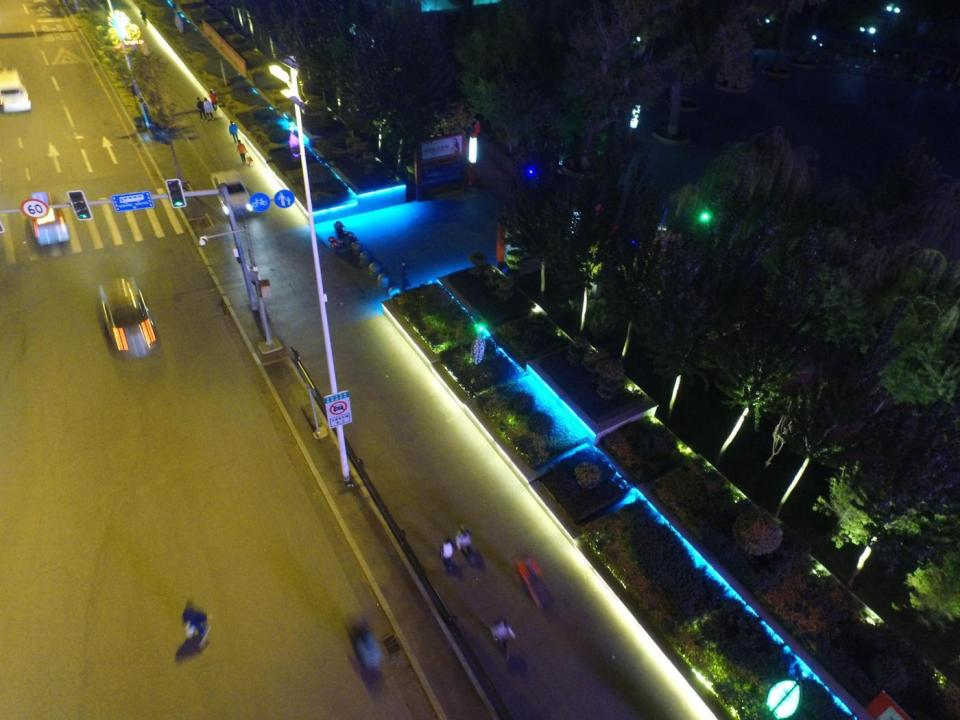car: (96, 277, 160, 363), (26, 190, 71, 248), (210, 166, 258, 219), (0, 65, 33, 115)
